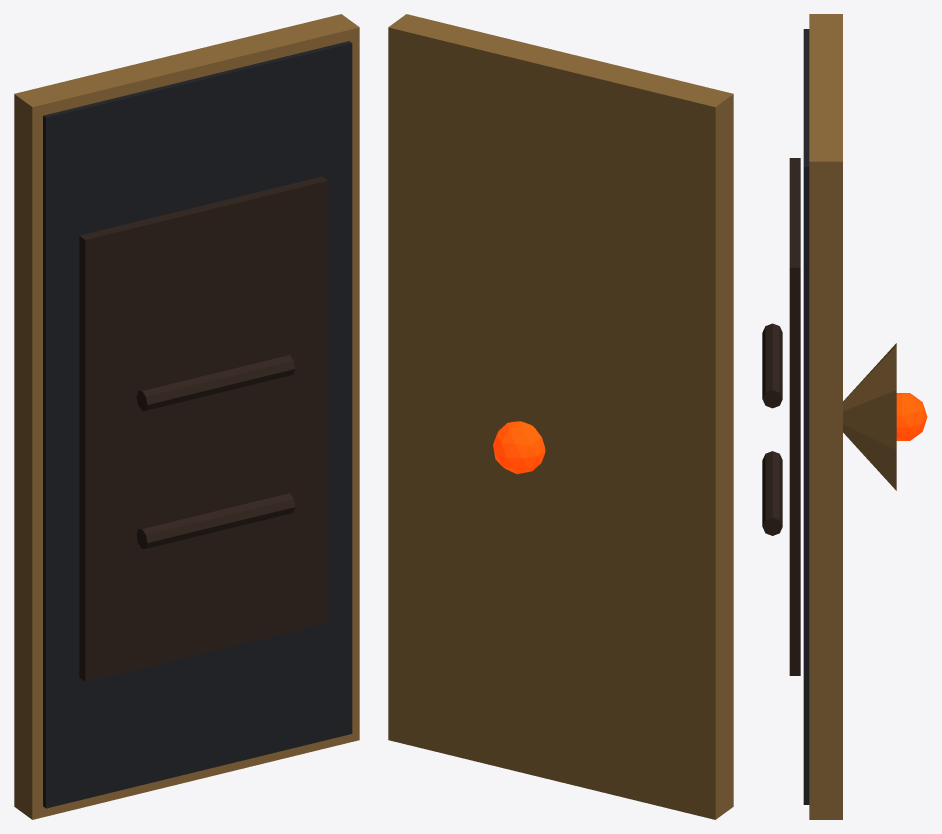
File: WEAPON_091_Escudo_Torre_de_Ferro_Negro.glb
3 views of the same model, side by side, from view 1: azimuth 30°, elevation 25°; view 2: azimuth 150°, elevation 25°; view 3: azimuth 270°, elevation 25° (orthographic). The views are drawn at different scales.
Visible parts, largest first — view 1: Cube, Shield_Plate, Shield_Rim, Cylinder.001, Cylinder; view 2: Shield_Rim, Shield_Umbo, Shield_Rune_Crest; view 3: Shield_Rim, Cube, Shield_Plate, Shield_Umbo, Cylinder.001, Cylinder, Shield_Rune_Crest.
Part boxes in pixels (box(x1,y1,x2,y2)): Cube: box(79, 176, 328, 681); Shield_Plate: box(43, 41, 352, 808); Shield_Rim: box(14, 14, 359, 819); Cylinder.001: box(136, 493, 295, 548); Cylinder: box(136, 355, 295, 410); Shield_Rim: box(388, 14, 733, 819); Shield_Umbo: box(449, 367, 596, 521); Shield_Rune_Crest: box(493, 421, 545, 473); Shield_Rim: box(809, 14, 842, 819); Cube: box(789, 158, 800, 675); Shield_Plate: box(803, 29, 809, 804); Shield_Umbo: box(843, 343, 896, 490); Cylinder.001: box(762, 451, 782, 535); Cylinder: box(762, 323, 782, 408); Shield_Rune_Crest: box(896, 393, 927, 440).
Bounding box in the file's own units: 0.62 × 1.29 × 0.293.
